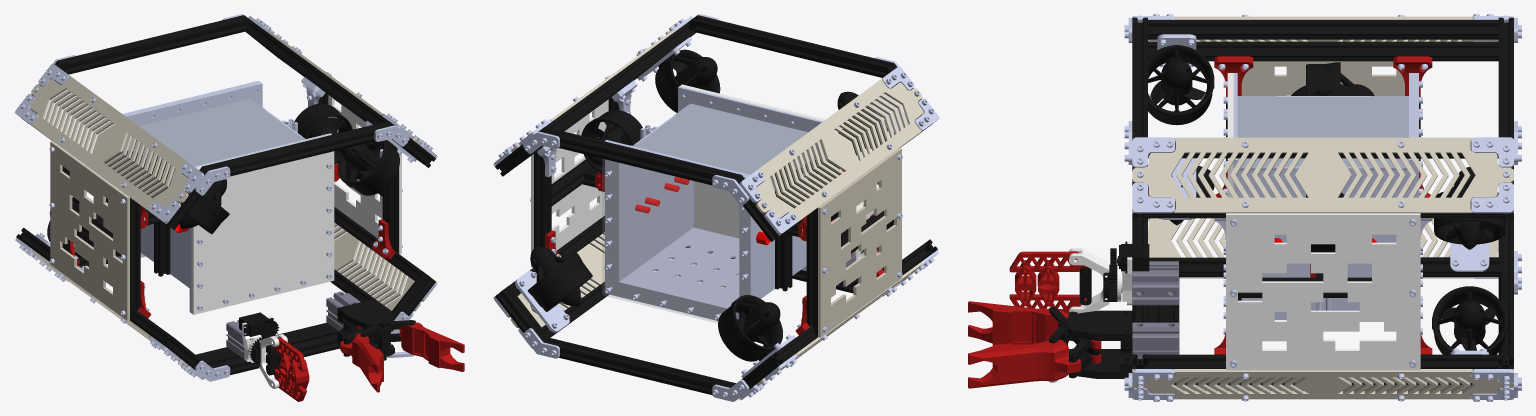
File: baymax-final.glb
3 views of the same model, side by side, from view 1: azimuth 30°, elevation 25°; view 2: azimuth 150°, elevation 25°; view 3: azimuth 270°, elevation 25° (orthographic). The views are drawn at different scales.
Parts seen in each view (by area): view 1: Acrylic endcap.STEP-1, MirrorPart3.STEP-1, Part4.STEP-2, Boex sheet test.STEP-1/Box sheet front WO_H.STEP-1, MirrorPart3.STEP-2, 2020 Al Rod_ 350mm.STEP-3, 2020 Al Rod_ 350mm.STEP-1, T200-ASM-CW-THRUSTER-R1.step.STEP-1, Part4.STEP-1, 2020 AL Rod_450mm.STEP-1, Boex sheet test.STEP-1/Box sheet top.STEP-2, Ali''s Edit.STEP-1/Jaw.STEP-2 (+28 smaller); view 2: Acrylic endcap.STEP-2, MirrorPart3.STEP-1, Part4.STEP-2, Boex sheet test.STEP-1/Box sheet front WO_H.STEP-1, Boex sheet test.STEP-1/Box sheet front.STEP-1, Boex sheet test.STEP-1/Box sheet side.STEP-2, Boex sheet test.STEP-1/Box sheet top.STEP-2, 2020 Al Rod_ 350mm.STEP-1, Part4.STEP-1, T200-ASM-CW-THRUSTER-R1.step.STEP-4, 2020 Al Rod_ 350mm.STEP-3, 2020 Al Rod_ 350mm.STEP-4 (+28 smaller); view 3: Part4.STEP-1, Part3.STEP-1, MirrorPart3.STEP-2, Boex sheet test.STEP-1/Box sheet front WO_H.STEP-1, 2020 AL Rod_450mm.STEP-6, 2020 AL Rod_450mm.STEP-5, T200-ASM-CW-THRUSTER-R1.step.STEP-3, Ali''s Edit.STEP-1/Jaw.STEP-2, T200-ASM-CW-THRUSTER-R1.step.STEP-2, Part4.STEP-2, Boex sheet test.STEP-1/Box sheet side.STEP-2, MirrorPart3.STEP-3 (+34 smaller).
Boxes of the visible parts, <box> form: Acrylic endcap.STEP-1: <box>191,134,334,314</box>; MirrorPart3.STEP-1: <box>14,75,188,223</box>; Part4.STEP-2: <box>50,141,129,320</box>; Boex sheet test.STEP-1/Box sheet front WO_H.STEP-1: <box>139,99,305,166</box>; MirrorPart3.STEP-2: <box>334,222,437,311</box>; 2020 Al Rod_ 350mm.STEP-3: <box>58,15,249,74</box>; 2020 Al Rod_ 350mm.STEP-1: <box>202,121,394,176</box>; T200-ASM-CW-THRUSTER-R1.step.STEP-1: <box>338,140,399,195</box>; Part4.STEP-1: <box>328,95,401,254</box>; 2020 AL Rod_450mm.STEP-1: <box>246,22,387,124</box>; Boex sheet test.STEP-1/Box sheet top.STEP-2: <box>120,82,262,260</box>; Ali''s Edit.STEP-1/Jaw.STEP-2: <box>399,322,464,371</box>; Acrylic endcap.STEP-2: <box>602,141,753,322</box>; MirrorPart3.STEP-1: <box>756,79,939,235</box>; Part4.STEP-2: <box>818,148,901,337</box>; Boex sheet test.STEP-1/Box sheet front WO_H.STEP-1: <box>632,103,807,174</box>; Boex sheet test.STEP-1/Box sheet front.STEP-1: <box>617,227,806,312</box>; Boex sheet test.STEP-1/Box sheet side.STEP-2: <box>617,115,692,280</box>; Boex sheet test.STEP-1/Box sheet top.STEP-2: <box>605,140,754,320</box>; 2020 Al Rod_ 350mm.STEP-1: <box>691,15,893,77</box>; Part4.STEP-1: <box>531,99,608,267</box>; T200-ASM-CW-THRUSTER-R1.step.STEP-4: <box>718,295,782,361</box>; 2020 Al Rod_ 350mm.STEP-3: <box>539,127,741,185</box>; 2020 Al Rod_ 350mm.STEP-4: <box>543,338,735,394</box>; Part4.STEP-1: <box>1226,213,1420,370</box>; Part3.STEP-1: <box>1132,137,1513,213</box>; MirrorPart3.STEP-2: <box>1132,369,1513,399</box>; Boex sheet test.STEP-1/Box sheet front WO_H.STEP-1: <box>1237,96,1408,170</box>; 2020 AL Rod_450mm.STEP-6: <box>1148,20,1498,39</box>; 2020 AL Rod_450mm.STEP-5: <box>1148,41,1498,61</box>; T200-ASM-CW-THRUSTER-R1.step.STEP-3: <box>1148,45,1214,125</box>; Ali''s Edit.STEP-1/Jaw.STEP-2: <box>968,340,1081,388</box>; T200-ASM-CW-THRUSTER-R1.step.STEP-2: <box>1432,286,1507,354</box>; Part4.STEP-2: <box>1241,61,1404,95</box>; Boex sheet test.STEP-1/Box sheet side.STEP-2: <box>1237,167,1408,319</box>; MirrorPart3.STEP-3: <box>1148,218,1498,278</box>.
Bounding box in the file's own units: 0.5249 × 0.3785 × 0.7111.
